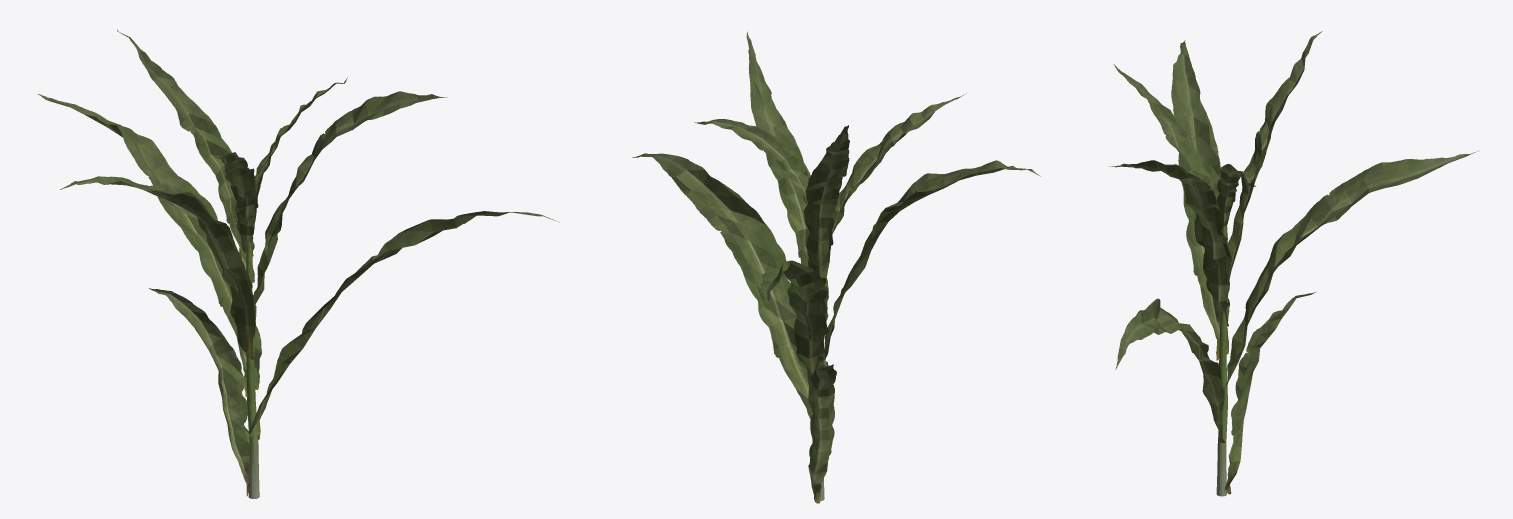
Rendered from corn_variant_1.dae.
3 renders of one model, left to right at view 1: azimuth 30°, elevation 25°; view 2: azimuth 150°, elevation 25°; view 3: azimuth 270°, elevation 25°, orthographic. The views are drawn at different scales.
Parts seen in each view (by area): view 1: LeavesMid, LeavesBase, Stem; view 2: LeavesMid, LeavesBase; view 3: LeavesMid, LeavesBase, Stem.
Part boxes in pixels (bbox=[...]): LeavesMid: bbox=[38, 29, 559, 439]; LeavesBase: bbox=[149, 288, 249, 496]; Stem: bbox=[246, 242, 259, 498]; LeavesMid: bbox=[632, 31, 1040, 442]; LeavesBase: bbox=[808, 356, 836, 503]; LeavesMid: bbox=[1109, 31, 1479, 442]; LeavesBase: bbox=[1224, 292, 1315, 494]; Stem: bbox=[1216, 225, 1227, 496].
Size of the model in its own units: 0.8686 by 0.6365 by 0.7623.
